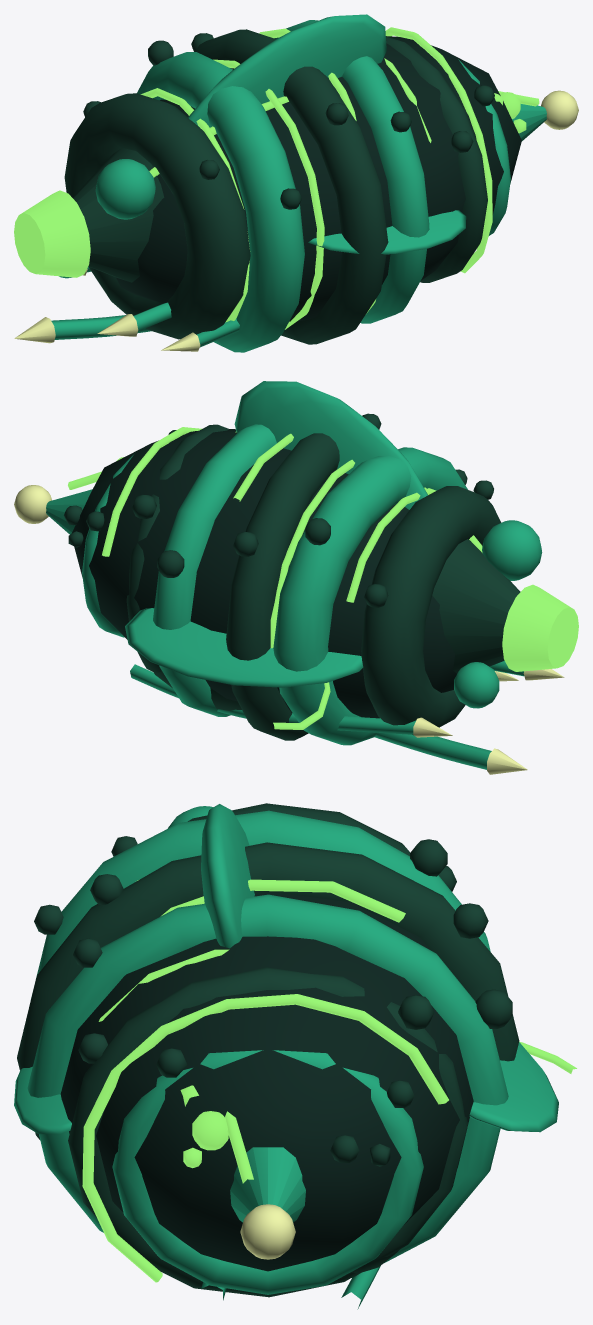
Rendered from abyssal-submersible-pelagia.glb.
3 renders of one model, top to bottom at view 1: azimuth 30°, elevation 25°; view 2: azimuth 150°, elevation 25°; view 3: azimuth 270°, elevation 25°, orthographic. The views are drawn at different scales.
Parts seen in each view (by area): view 1: seed-hull, growth-ring-1, growth-ring-2, growth-ring-3, growth-ring-4, dorsal-keel, nozzle-throat, growth-ring-5, aft-nozzle, aft-pod-a, fin-stb, vein-ring-e (+14 smaller); view 2: seed-hull, growth-ring-1, growth-ring-2, growth-ring-3, growth-ring-4, fin-port, dorsal-keel, aft-nozzle, nozzle-throat, aft-pod-a, growth-ring-5, tendril-port-1 (+14 smaller); view 3: seed-hull, growth-ring-4, growth-ring-3, growth-ring-6, growth-ring-5, growth-ring-2, vein-ring-e, dorsal-keel, fin-port, prow-beak, prow-tip, fin-stb (+15 smaller).
Part boxes in pixels (x1,y1,x2,y2): seed-hull: [116, 36, 521, 321]; growth-ring-1: [64, 93, 250, 339]; growth-ring-2: [137, 52, 304, 352]; growth-ring-3: [195, 29, 388, 344]; growth-ring-4: [274, 20, 429, 323]; dorsal-keel: [188, 14, 386, 127]; nozzle-throat: [14, 190, 90, 277]; growth-ring-5: [386, 36, 487, 282]; aft-nozzle: [72, 148, 164, 282]; aft-pod-a: [95, 159, 155, 219]; fin-stb: [308, 210, 466, 254]; vein-ring-e: [385, 27, 492, 273]; seed-hull: [72, 429, 456, 718]; growth-ring-1: [361, 486, 501, 735]; growth-ring-2: [273, 447, 467, 745]; growth-ring-3: [226, 433, 339, 740]; growth-ring-4: [153, 424, 276, 716]; fin-port: [125, 608, 363, 687]; dorsal-keel: [234, 381, 427, 509]; aft-nozzle: [432, 539, 520, 673]; nozzle-throat: [502, 584, 578, 671]; aft-pod-a: [482, 520, 542, 580]; growth-ring-5: [126, 424, 228, 673]; tendril-port-1: [374, 732, 491, 769]; seed-hull: [60, 892, 473, 1271]; growth-ring-4: [27, 894, 508, 1262]; growth-ring-3: [17, 842, 519, 1139]; growth-ring-6: [112, 1050, 423, 1294]; growth-ring-5: [68, 967, 467, 1297]; growth-ring-2: [31, 810, 490, 998]; vein-ring-e: [82, 994, 448, 1282]; dorsal-keel: [201, 804, 254, 948]; fin-port: [469, 1042, 558, 1132]; prow-beak: [230, 1147, 305, 1222]; prow-tip: [240, 1204, 295, 1259]; fin-stb: [14, 1066, 71, 1134].
Bounding box in the file's own units: 95 × 53.22 × 60.21.
